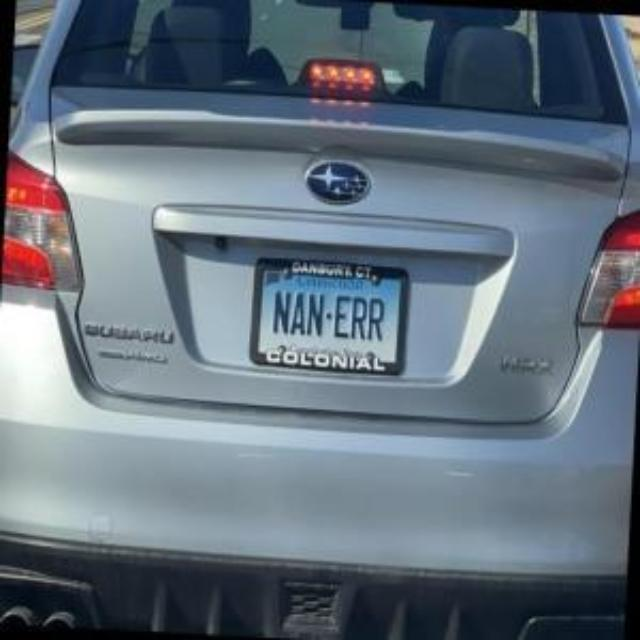License Plate: (249, 258, 411, 374)
